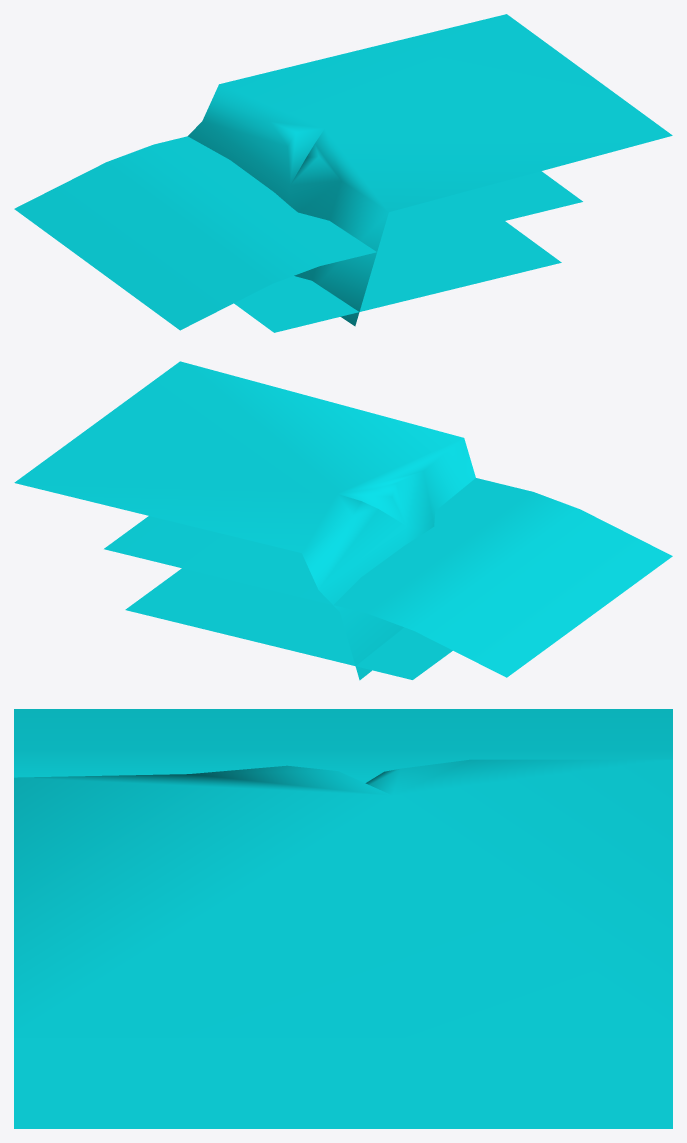
Rendered from Modular.fbx.
The picture shows the model from 3 angles, top to bottom: view 1: azimuth 30°, elevation 25°; view 2: azimuth 150°, elevation 25°; view 3: azimuth 270°, elevation 25°; orthographic projection. The views are drawn at different scales.
Visible parts, largest first — view 1: GroundCliff_low, GroundSlove, GroundPlane; view 2: GroundCliff_low, GroundSlove, GroundPlane; view 3: GroundCliff_low, GroundPlane, GroundSlove.
Boxes of the visible parts, x1=… form: GroundCliff_low: x1=188, y1=14, x2=672, y2=326; GroundSlove: x1=14, y1=136, x2=582, y2=330; GroundPlane: x1=234, y1=221, x2=561, y2=332; GroundCliff_low: x1=14, y1=361, x2=475, y2=680; GroundSlove: x1=104, y1=478, x2=672, y2=677; GroundPlane: x1=125, y1=568, x2=452, y2=679; GroundCliff_low: x1=14, y1=759, x2=672, y2=1037; GroundPlane: x1=14, y1=1039, x2=672, y2=1128; GroundSlove: x1=14, y1=709, x2=672, y2=1039.
Size of the model in its own units: 1712 by 376 by 1000.
